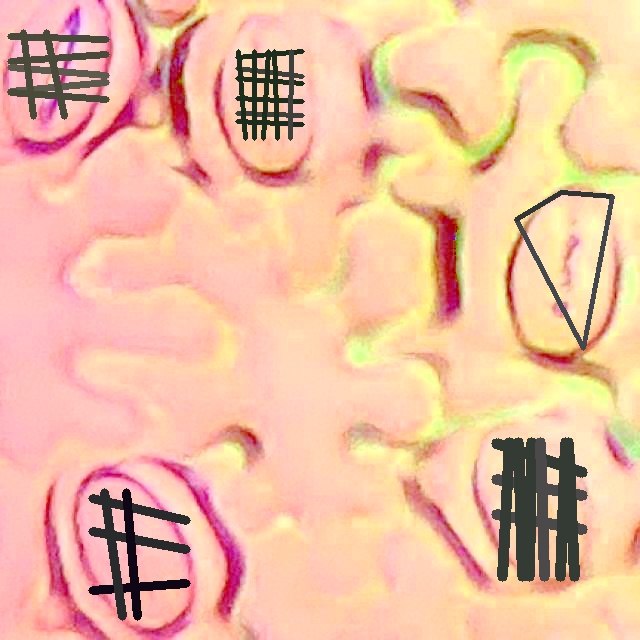close: (89, 488, 190, 619), (235, 49, 304, 140)
open: (514, 190, 614, 350), (491, 438, 587, 580), (8, 30, 109, 119)
